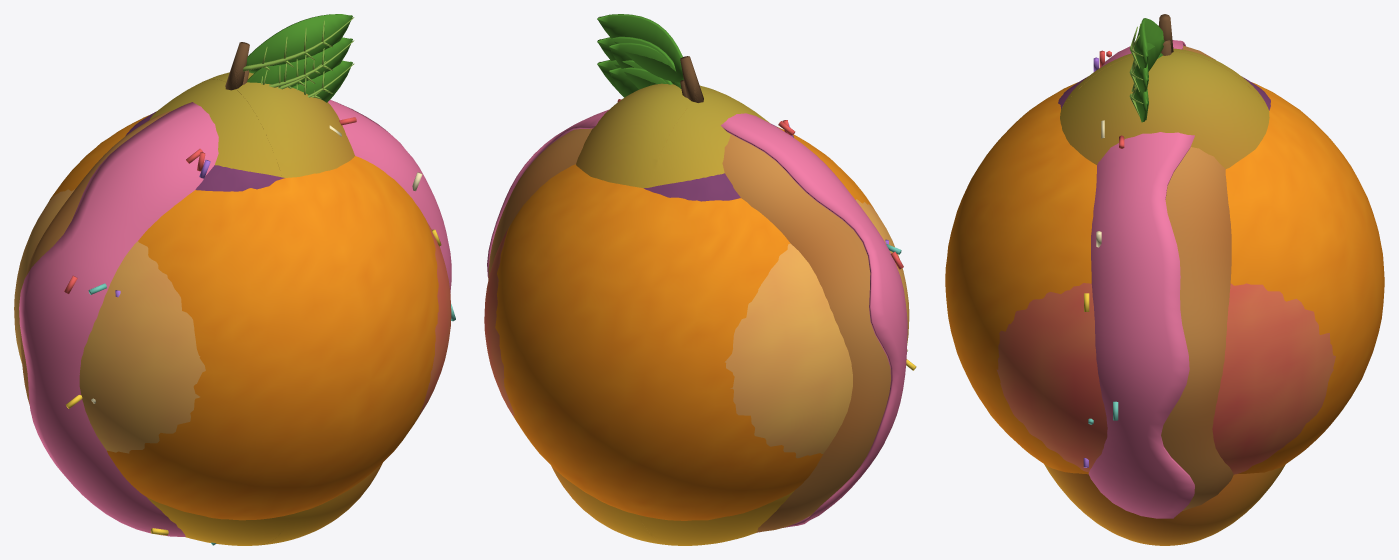
Rendered from typeslasher-fresh-pack.glb.
The picture shows the model from 3 angles, left to right: view 1: azimuth 30°, elevation 25°; view 2: azimuth 150°, elevation 25°; view 3: azimuth 270°, elevation 25°; orthographic projection. The views are drawn at different scales.
Parts seen in each view (by area): view 1: Citrus leaf.005, Dripping strawberry icing.003, Fruit leaf midrib.010, Fruit leaf midrib.007, Fruit leaf midrib.001, Dripping strawberry icing.004, Fruit leaf.007, Fruit leaf.006, Fruit leaf midrib.002, Fruit leaf midrib.006, Fruit leaf midrib.008; view 2: Citrus leaf.005, Dripping strawberry icing.004, Fruit leaf midrib.010, Fruit leaf midrib.007, Dripping strawberry icing.003, Fruit leaf midrib.001, Fruit leaf.007, Citrus leaf.004, Citrus leaf midrib.001, Fruit stem.013, Fruit leaf.006, Fruit leaf midrib.008 (+1 smaller); view 3: Citrus leaf.005, Dripping strawberry icing.003, Fruit leaf midrib.010, Fruit leaf midrib.007, Dripping strawberry icing.004, Fruit leaf midrib.001.
Part boxes in pixels (x1,y1,x2,y2): Citrus leaf.005: (49,114,438,520); Dripping strawberry icing.003: (19,99,451,536); Fruit leaf midrib.010: (14,189,451,453); Fruit leaf midrib.007: (147,72,382,545); Fruit leaf midrib.001: (246,14,352,73); Dripping strawberry icing.004: (20,111,170,404); Fruit leaf.007: (125,111,284,191); Fruit leaf.006: (247,37,352,82); Fruit leaf midrib.002: (292,60,352,102); Fruit leaf midrib.006: (243,17,354,71); Fruit leaf midrib.008: (225,42,249,90); Citrus leaf.005: (495,127,874,520); Dripping strawberry icing.004: (488,128,890,532); Fruit leaf midrib.010: (484,199,909,458); Fruit leaf midrib.007: (551,83,793,545); Dripping strawberry icing.003: (487,109,907,532); Fruit leaf midrib.001: (597,14,683,82); Fruit leaf.007: (644,124,777,201); Citrus leaf.004: (609,42,667,89); Citrus leaf midrib.001: (609,67,666,97); Fruit stem.013: (638,93,721,545); Fruit leaf.006: (597,36,681,88); Fruit leaf midrib.008: (680,56,703,102); Citrus leaf.005: (945,82,1384,474); Dripping strawberry icing.003: (1088,40,1194,518); Fruit leaf midrib.010: (996,283,1335,474); Fruit leaf midrib.007: (1044,48,1285,545); Dripping strawberry icing.004: (1161,45,1233,510); Fruit leaf midrib.001: (1134,18,1164,71).
Bounding box in the file's own units: 2.04 × 2.43 × 1.84.
